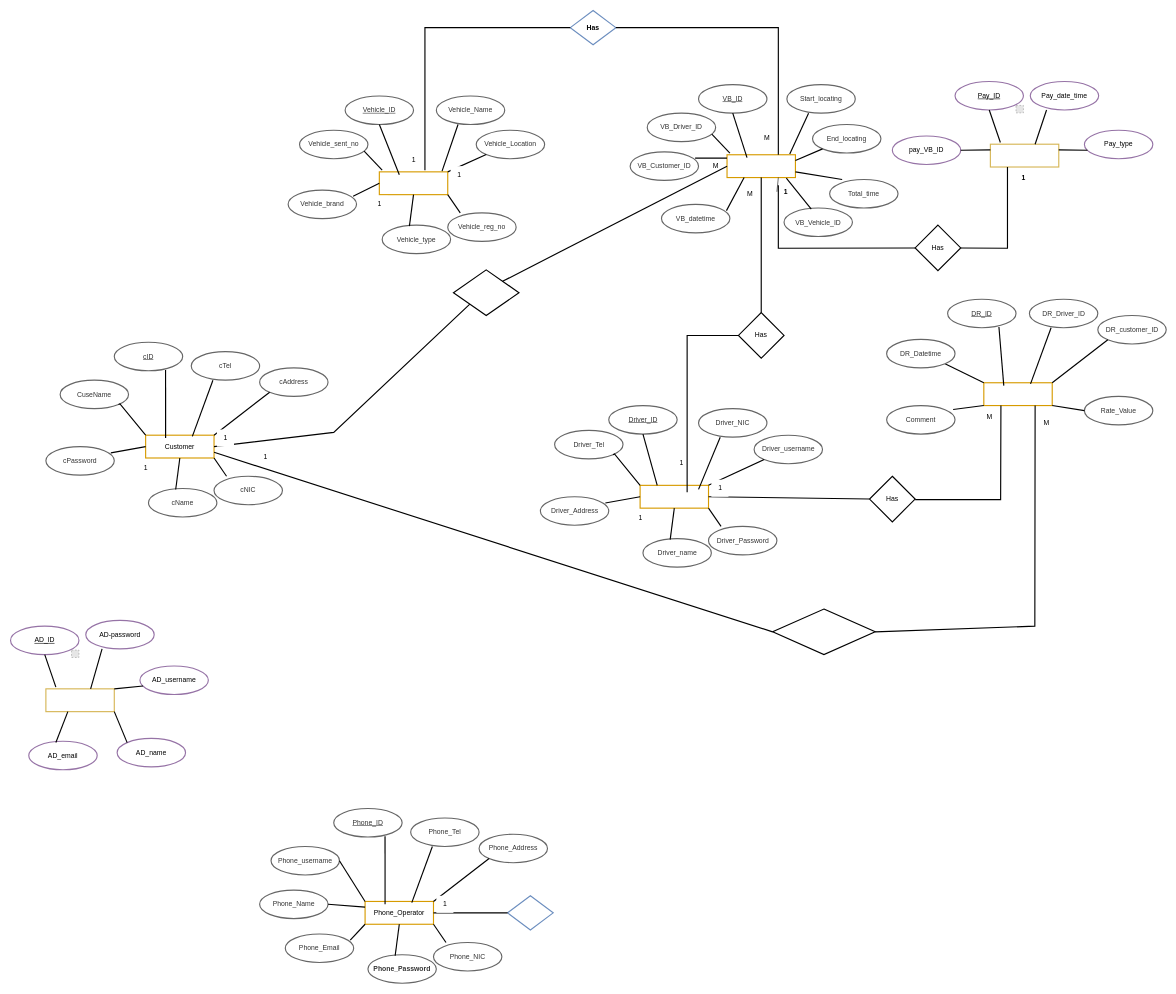
Some shapes in this 1176 by 994 pixel diagram are drawn without their labels. Grey dashed boxes stand in for pictures. Each missing label, with the centre of its shape:
Admin: point 80,700
Booked by: point 486,292
Driver: point 674,496
Driver_Rating: point 1018,394
Give by: point 824,631
Payment: point 1024,155
stays: point 530,912
Vehicle: point 413,183
Vehicle_Booking: point 761,166
